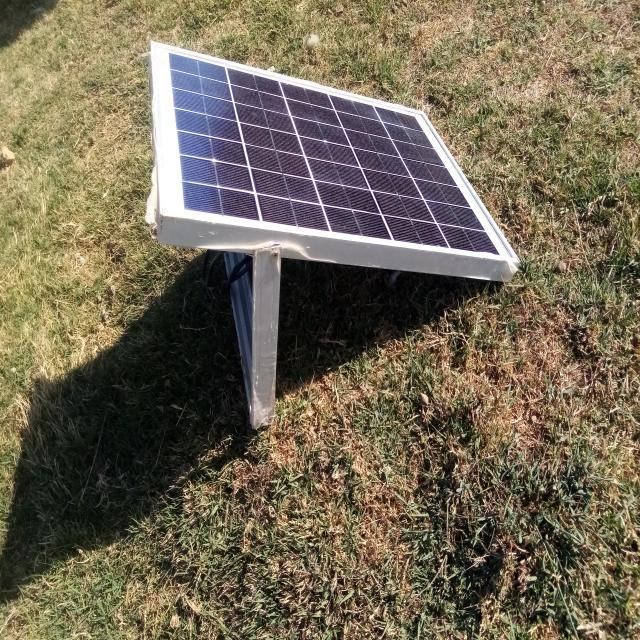no faulty: (151, 42, 519, 265)
